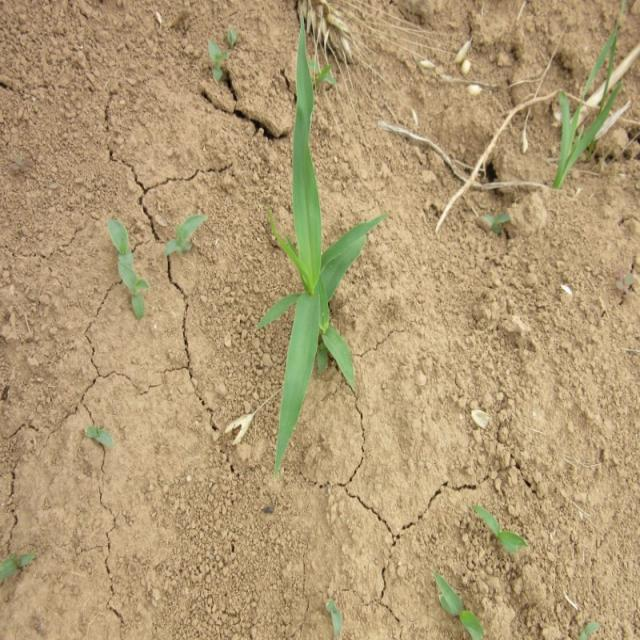bg: (261, 39, 383, 480)
